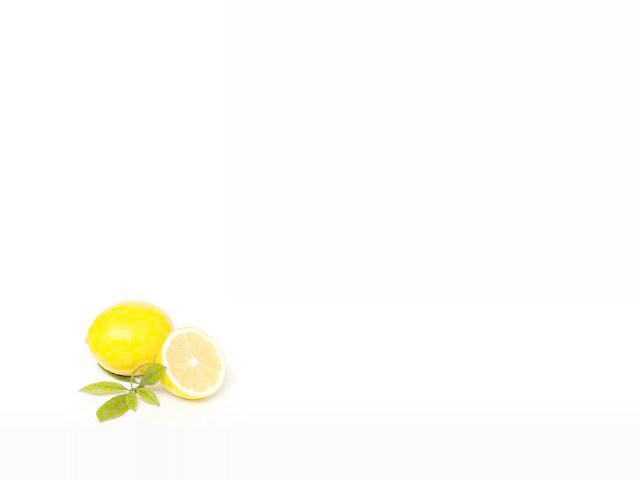lemon: (78, 296, 185, 383)
